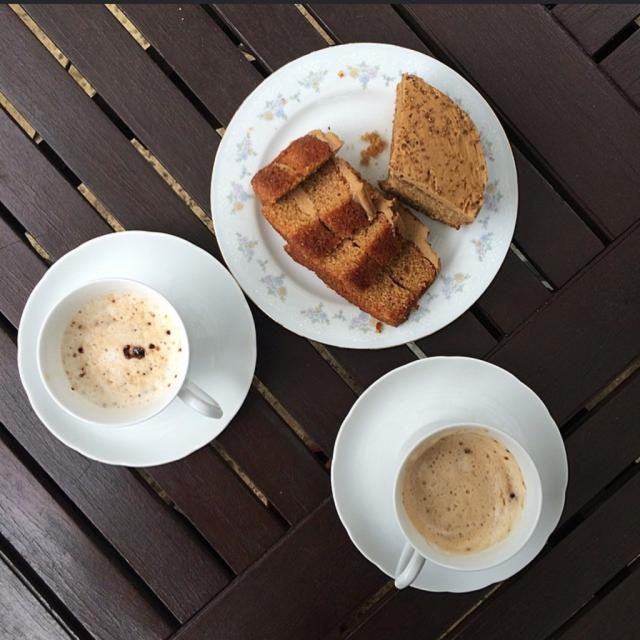Coffee: (403, 435, 531, 548), (61, 295, 189, 400)
